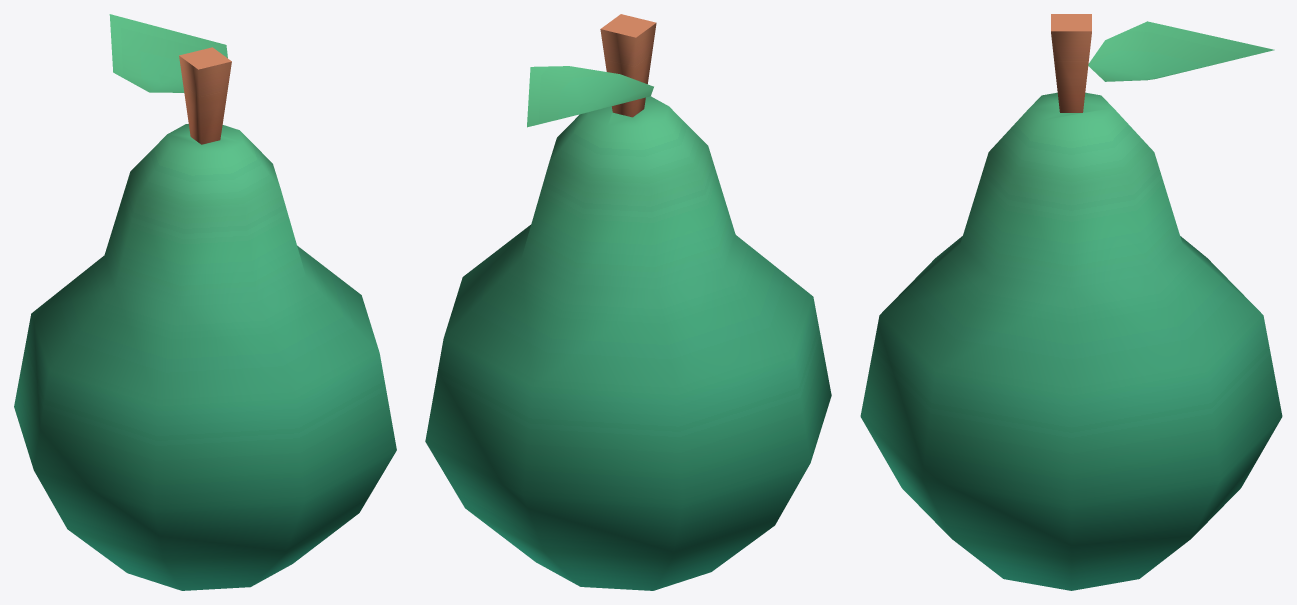
Rendered from pear.glb.
The picture shows the model from 3 angles, left to right: view 1: azimuth 30°, elevation 25°; view 2: azimuth 150°, elevation 25°; view 3: azimuth 270°, elevation 25°; orthographic projection. The views are drawn at different scales.
Visible parts, largest first — view 1: pear; view 2: pear; view 3: pear.
Part boxes in pixels (x1,y1,x2,y2): pear: (14,14,396,590); pear: (425,14,831,590); pear: (860,14,1282,590).
Size of the model in its own units: 0.1963 by 0.2708 by 0.1963.
Materials: 1 (1 with a texture image).
